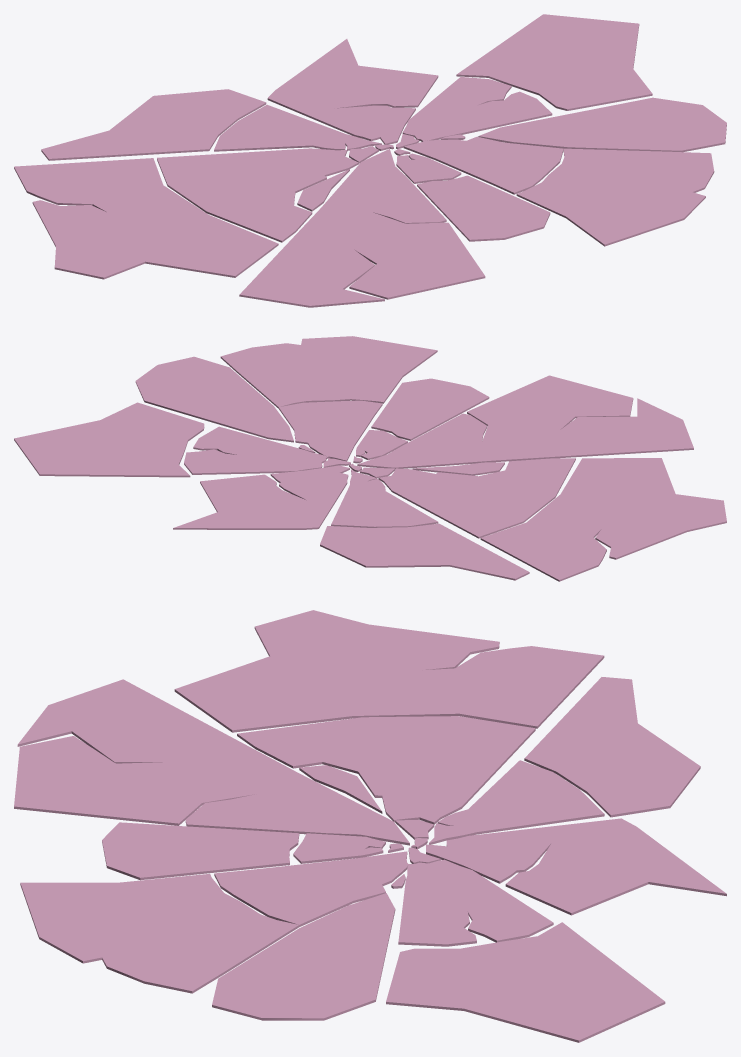
File: frag.glb
The picture shows the model from 3 angles, top to bottom: view 1: azimuth 30°, elevation 25°; view 2: azimuth 150°, elevation 25°; view 3: azimuth 270°, elevation 25°; orthographic projection. The views are drawn at different scales.
Parts seen in each view (by area): view 1: fract14, fract01, fract11, fract07, fract02, fract05, fract08, fract03, fract06, fract13, fract09, fract04 (+2 smaller); view 2: fract14, fract01, fract11, fract07, fract02, fract05, fract08, fract03, fract06, fract13, fract09, fract04 (+2 smaller); view 3: fract14, fract01, fract11, fract07, fract02, fract05, fract08, fract03, fract06, fract13, fract09, fract04 (+2 smaller).
Boxes of the visible parts, bbox=[...] form: fract14: bbox=[239, 149, 485, 307]; fract01: bbox=[14, 158, 278, 279]; fract11: bbox=[516, 148, 714, 246]; fract07: bbox=[456, 14, 652, 110]; fract02: bbox=[157, 148, 358, 242]; fract05: bbox=[267, 39, 438, 144]; fract08: bbox=[478, 97, 726, 152]; fract03: bbox=[41, 89, 266, 160]; fract06: bbox=[402, 77, 552, 141]; fract13: bbox=[417, 175, 550, 241]; fract09: bbox=[403, 136, 563, 194]; fract04: bbox=[214, 104, 381, 151]; fract14: bbox=[357, 375, 693, 468]; fract01: bbox=[480, 458, 726, 581]; fract11: bbox=[220, 336, 437, 408]; fract07: bbox=[14, 402, 204, 477]; fract02: bbox=[378, 458, 575, 538]; fract05: bbox=[173, 465, 349, 529]; fract08: bbox=[135, 356, 293, 442]; fract03: bbox=[320, 523, 529, 580]; fract06: bbox=[184, 426, 327, 474]; fract13: bbox=[371, 378, 489, 440]; fract09: bbox=[278, 400, 382, 461]; fract04: bbox=[331, 469, 438, 527]; fract14: bbox=[14, 679, 409, 845]; fract01: bbox=[174, 610, 604, 732]; fract11: bbox=[20, 874, 299, 993]; fract07: bbox=[386, 922, 665, 1042]; fract02: bbox=[237, 716, 535, 824]; fract05: bbox=[426, 818, 726, 915]; fract08: bbox=[212, 893, 395, 1020]; fract03: bbox=[524, 677, 700, 817]; fract06: bbox=[398, 859, 553, 946]; fract13: bbox=[102, 822, 299, 880]; fract09: bbox=[214, 851, 408, 926]; fract04: bbox=[429, 760, 604, 844].
Bounding box in the file's own units: 1.58 × 0.00407 × 1.1.
